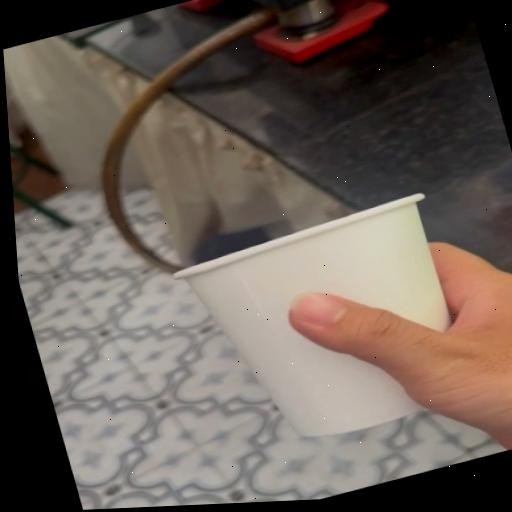Ly_giay: (174, 193, 451, 436)
